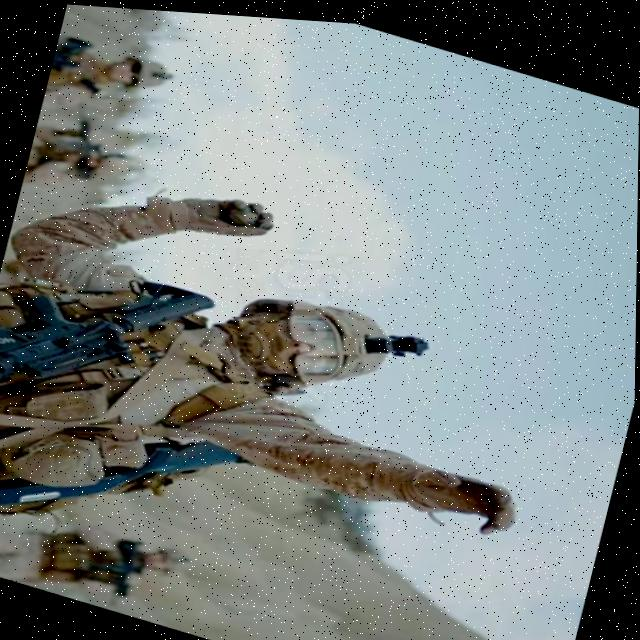grenade: (212, 185, 283, 247)
